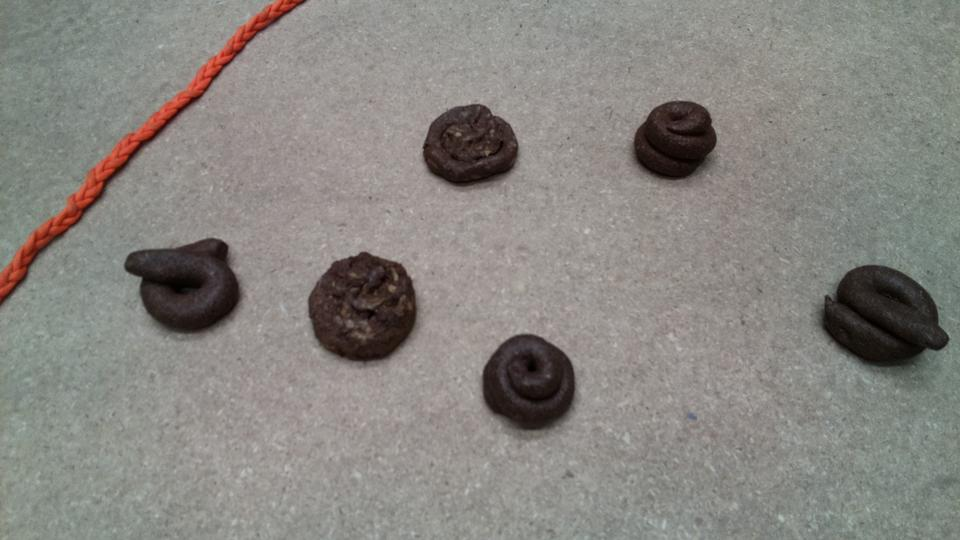poop: (818, 262, 952, 371), (305, 249, 421, 364), (121, 233, 243, 334), (479, 329, 581, 431), (419, 100, 524, 189), (631, 98, 721, 184)
rope: (1, 1, 290, 288)
